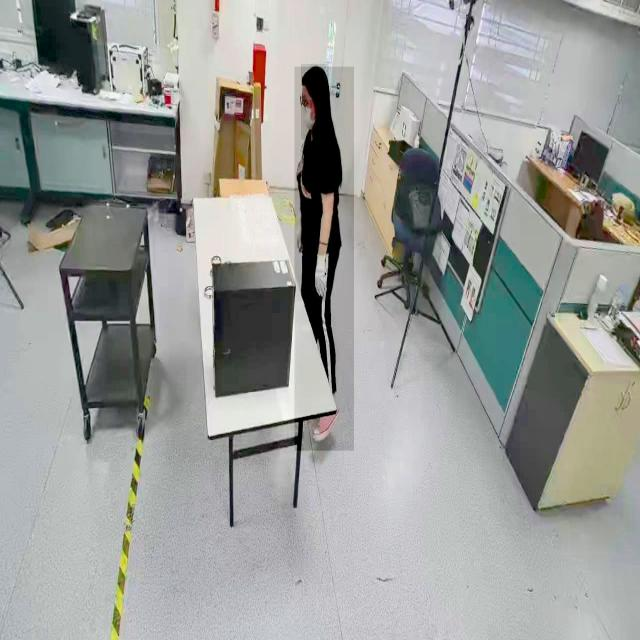face_mask: (301, 100, 319, 140)
hand_glove: (314, 246, 331, 303)
head_nohelmet: (301, 64, 329, 87)
person: (294, 66, 354, 452)
